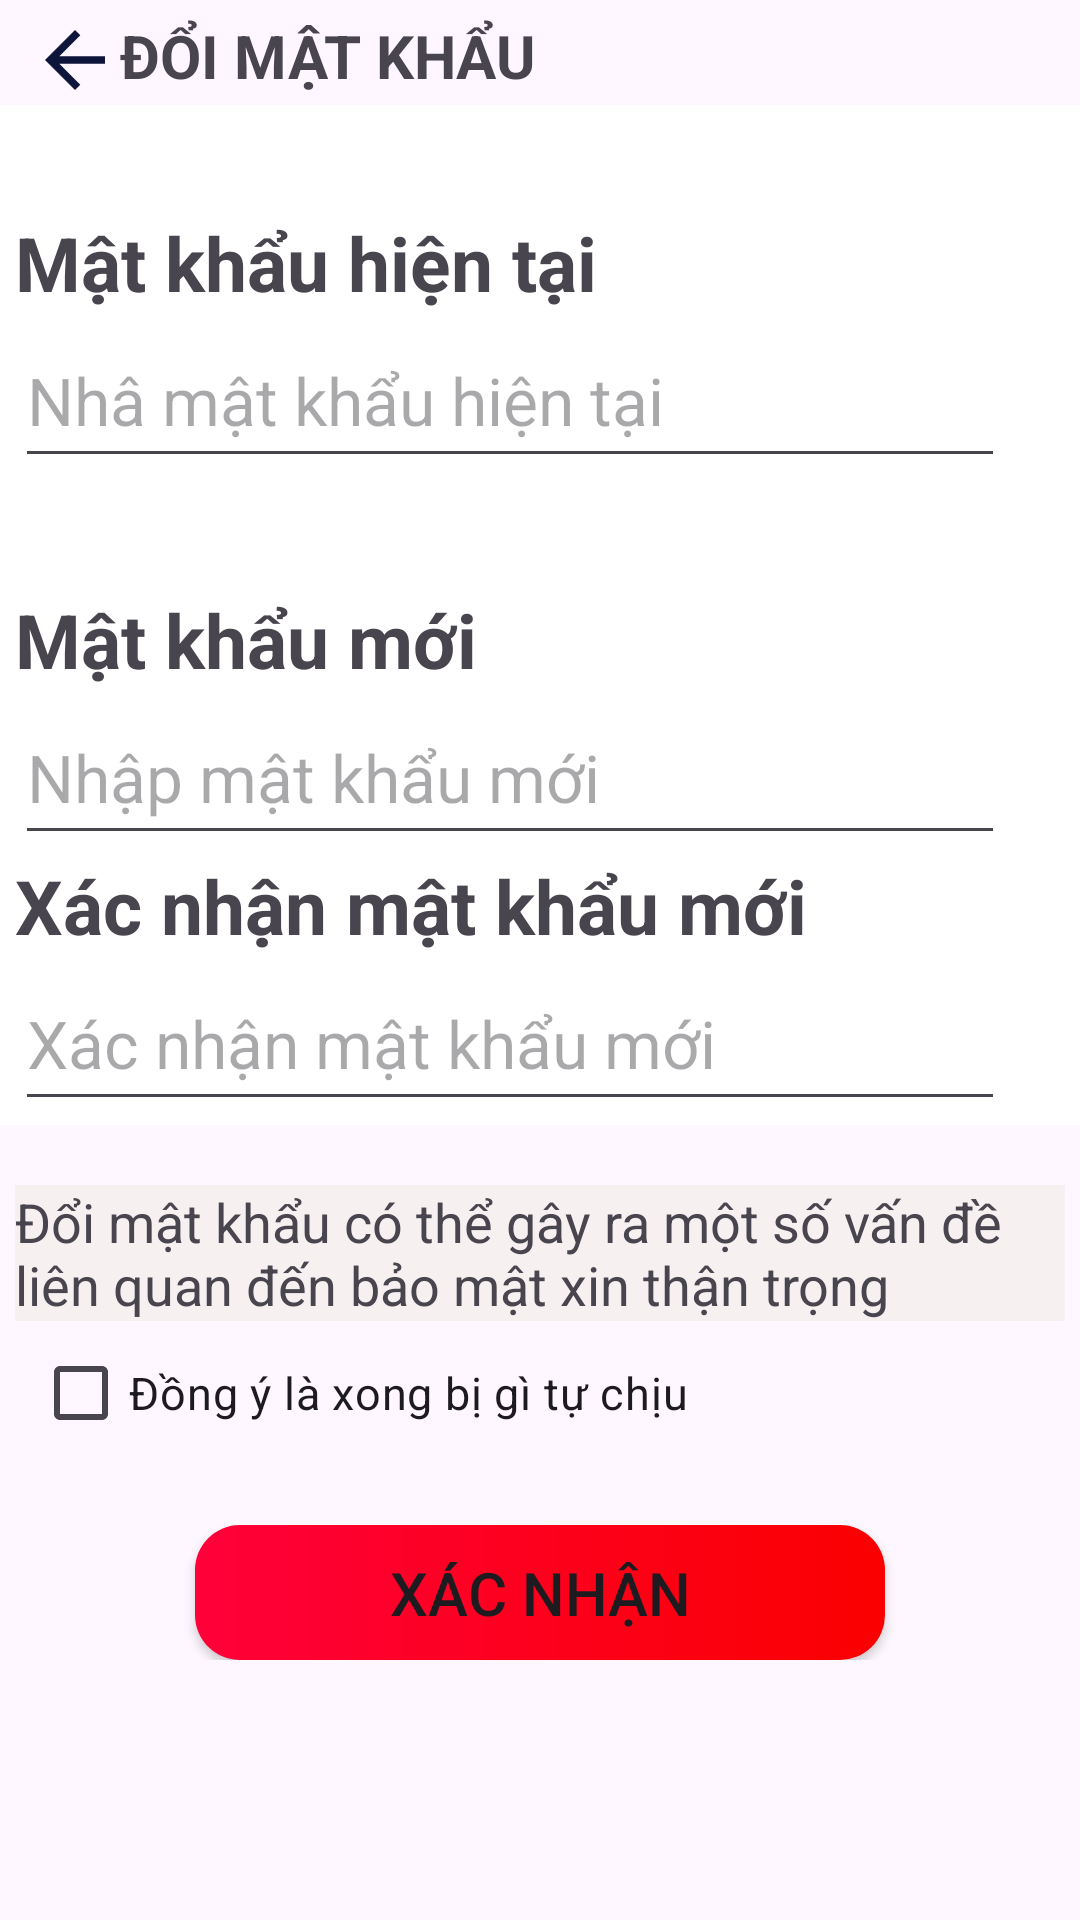

Named icons in this screenshot (1080*1920) and their bounding boxes, (x1, y1, x2, y2):
previou: (45, 30, 105, 90)
